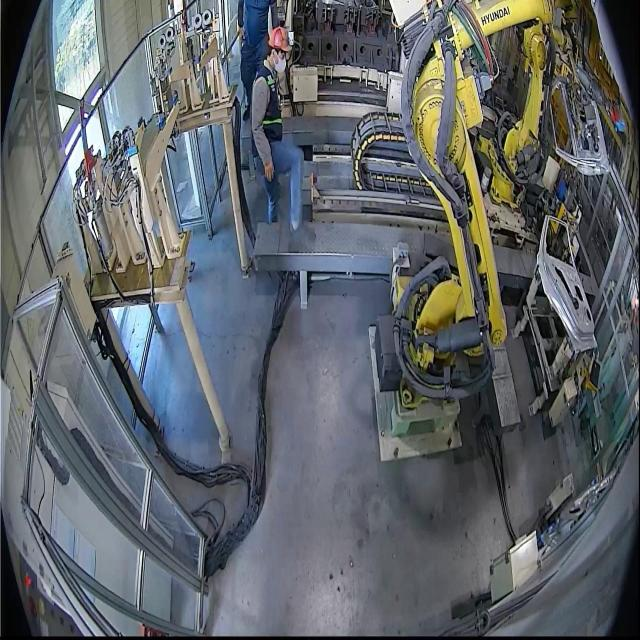Person: (250, 26, 304, 232), (236, 0, 278, 121)
